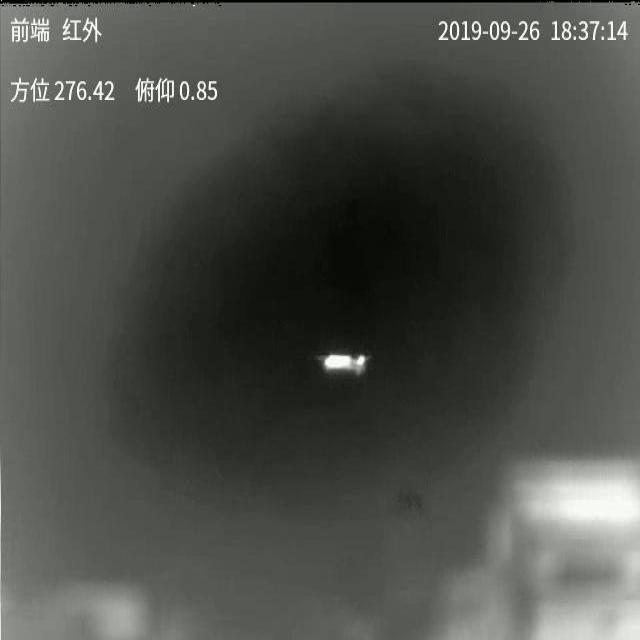drone: (315, 354, 365, 375)
